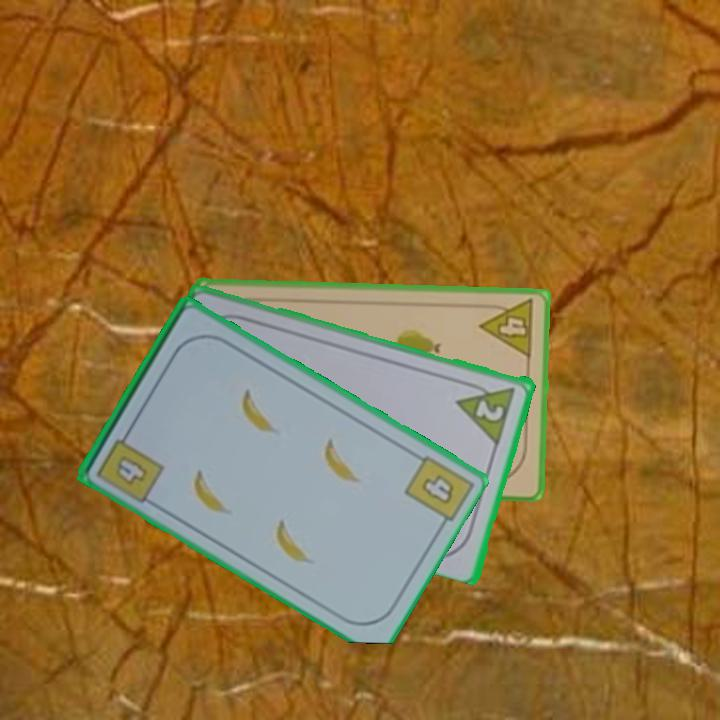2p: (472, 396, 507, 424)
4b: (93, 424, 167, 506), (418, 471, 458, 508)
4p: (477, 296, 538, 361)
